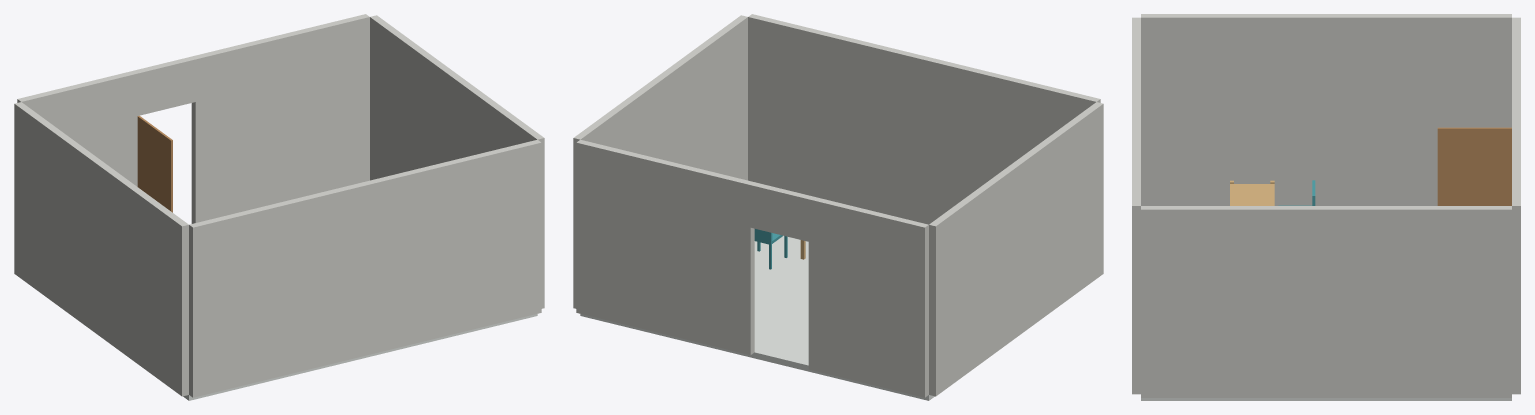
File: move-object.glb
The picture shows the model from 3 angles, left to right: view 1: azimuth 30°, elevation 25°; view 2: azimuth 150°, elevation 25°; view 3: azimuth 270°, elevation 25°; orthographic projection. The views are drawn at different scales.
Visible parts, largest first — view 1: room:north:full, room:west:full, room:south:high, room:east:full, room:south:low, room:south:lintel, door:leaf, room:floor; view 2: room:north:full, room:south:high, room:west:full, room:south:low, room:east:full, room:floor, room:south:lintel; view 3: room:east:full, room:west:full, door:leaf, room:north:full, room:south:high, room:floor, manual-a:table:top, room:south:low.
Part boxes in pixels (left/top/right/bottom): room:north:full: left=189, top=139, right=541, bottom=397; room:west:full: left=14, top=102, right=188, bottom=396; room:south:high: left=191, top=14, right=369, bottom=223; room:east:full: left=370, top=15, right=544, bottom=308; room:south:low: left=17, top=70, right=137, bottom=186; room:south:lintel: left=134, top=56, right=195, bottom=115; door:leaf: left=137, top=115, right=172, bottom=212; room:floor: left=183, top=314, right=537, bottom=400; room:north:full: left=748, top=14, right=1100, bottom=224; room:south:high: left=576, top=139, right=754, bottom=355; room:west:full: left=929, top=102, right=1103, bottom=396; room:south:low: left=808, top=196, right=928, bottom=397; room:east:full: left=573, top=15, right=747, bottom=308; room:floor: left=580, top=235, right=934, bottom=400; room:south:lintel: left=750, top=182, right=812, bottom=241; room:east:full: left=1141, top=206, right=1511, bottom=397; room:west:full: left=1141, top=14, right=1511, bottom=205; door:leaf: left=1437, top=127, right=1511, bottom=205; room:north:full: left=1132, top=17, right=1140, bottom=394; room:south:high: left=1512, top=112, right=1520, bottom=394; room:floor: left=1141, top=398, right=1511, bottom=400; manual-a:table:top: left=1230, top=184, right=1274, bottom=205; room:south:low: left=1512, top=17, right=1520, bottom=80.
Bounding box in the file's own units: 6.24 × 2.9 × 5.24.
